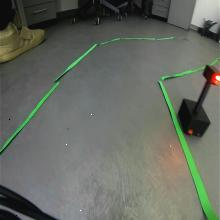red: (202, 64, 220, 86)
